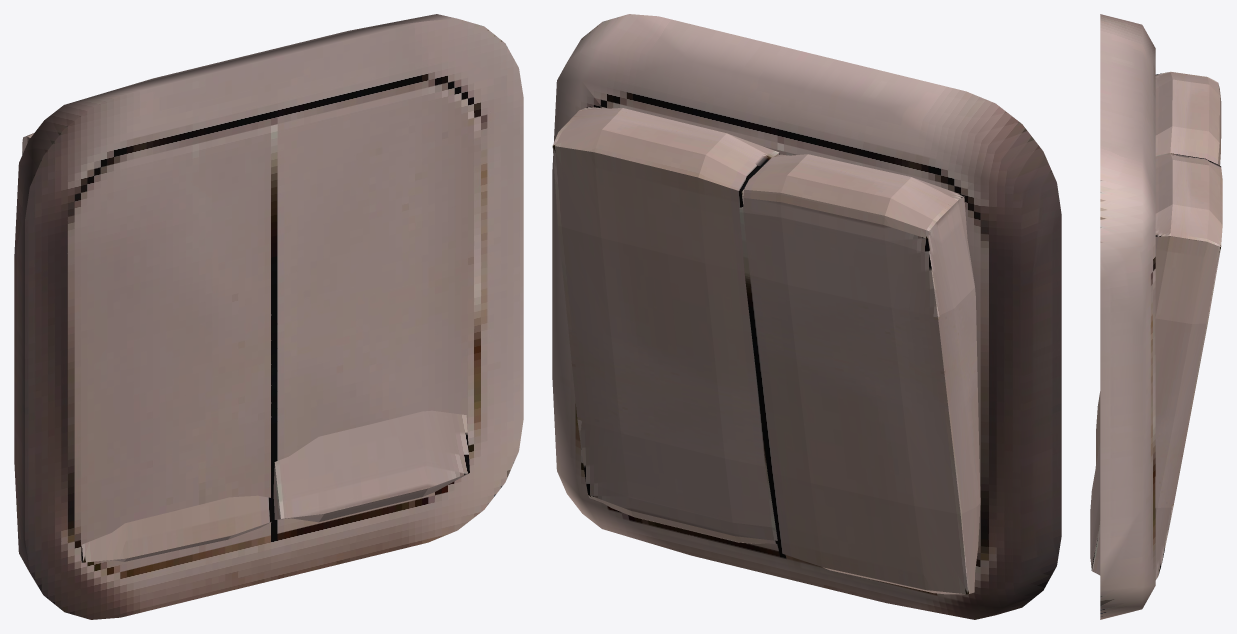
Rendered from Switch_Model.fbx.
3 renders of one model, left to right at view 1: azimuth 30°, elevation 25°; view 2: azimuth 150°, elevation 25°; view 3: azimuth 270°, elevation 25°, orthographic. The views are drawn at different scales.
Visible parts, largest first — view 1: Куб, Правая кнопка; view 2: Куб, Правая кнопка; view 3: Куб, Правая кнопка.
Part boxes in pixels (x1,y1,x2,y2): Куб: [14, 14, 523, 619]; Правая кнопка: [22, 133, 272, 562]; Куб: [552, 14, 1061, 619]; Правая кнопка: [739, 154, 980, 594]; Куб: [1090, 14, 1222, 619]; Правая кнопка: [1095, 71, 1221, 466].
Bounding box in the file's own units: 105 × 105 × 27.63.
3 materials, 3 textured.
